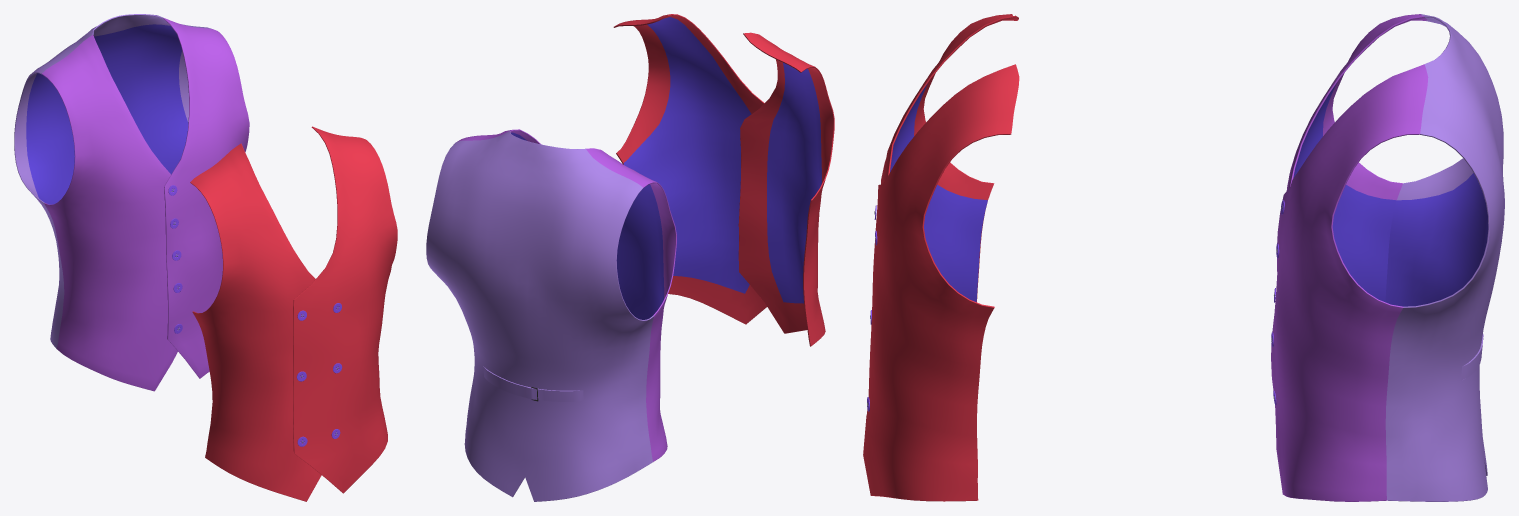
Rendered from Waistcoat_03_001.fbx.
3 views of the same model, side by side, from view 1: azimuth 30°, elevation 25°; view 2: azimuth 150°, elevation 25°; view 3: azimuth 270°, elevation 25° (orthographic). The views are drawn at different scales.
Parts seen in each view (by area): view 1: CSA_Waiscoat_Front_SB001; view 2: CSA_Waiscoat_Front_SB001; view 3: CSA_Waiscoat_Front_SB001.
Boxes of the visible parts, left/top/right/bottom form: CSA_Waiscoat_Front_SB001: left=14, top=14, right=397, bottom=501; CSA_Waiscoat_Front_SB001: left=426, top=14, right=834, bottom=501; CSA_Waiscoat_Front_SB001: left=863, top=14, right=1504, bottom=501.
Size of the model in its own units: 37.47 by 60.87 by 78.5.
